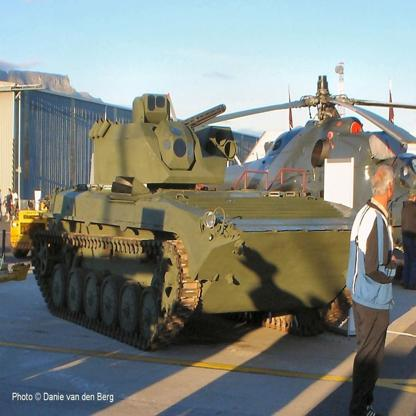Tank: (29, 84, 387, 353)
